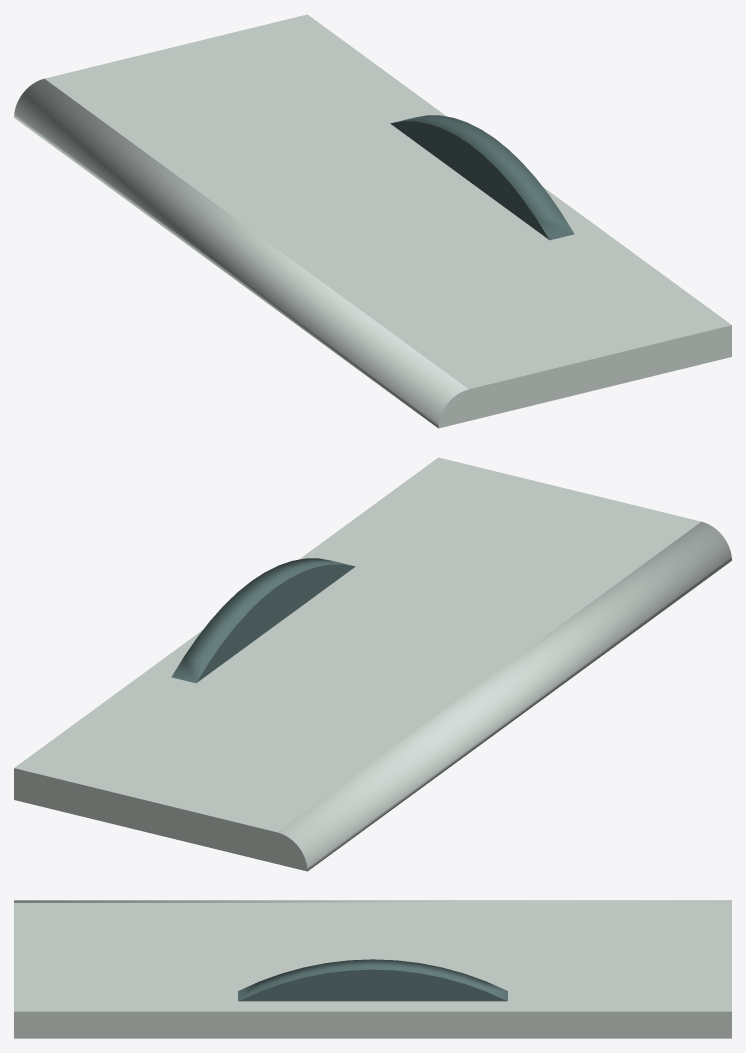
The model's file is freezer_door_visual.obj.
The picture shows the model from 3 angles, top to bottom: view 1: azimuth 30°, elevation 25°; view 2: azimuth 150°, elevation 25°; view 3: azimuth 270°, elevation 25°; orthographic projection. The views are drawn at different scales.
Parts seen in each view (by area): view 1: freezerDoor1.001_ID16.002; view 2: freezerDoor1.001_ID16.002; view 3: freezerDoor1.001_ID16.002.
Part boxes in pixels (x1=…): freezerDoor1.001_ID16.002: x1=14, y1=14, x2=731, y2=428; freezerDoor1.001_ID16.002: x1=14, y1=457, x2=731, y2=871; freezerDoor1.001_ID16.002: x1=14, y1=900, x2=731, y2=1038.
Size of the model in its own units: 0.5795 by 0.1308 by 1.45.
